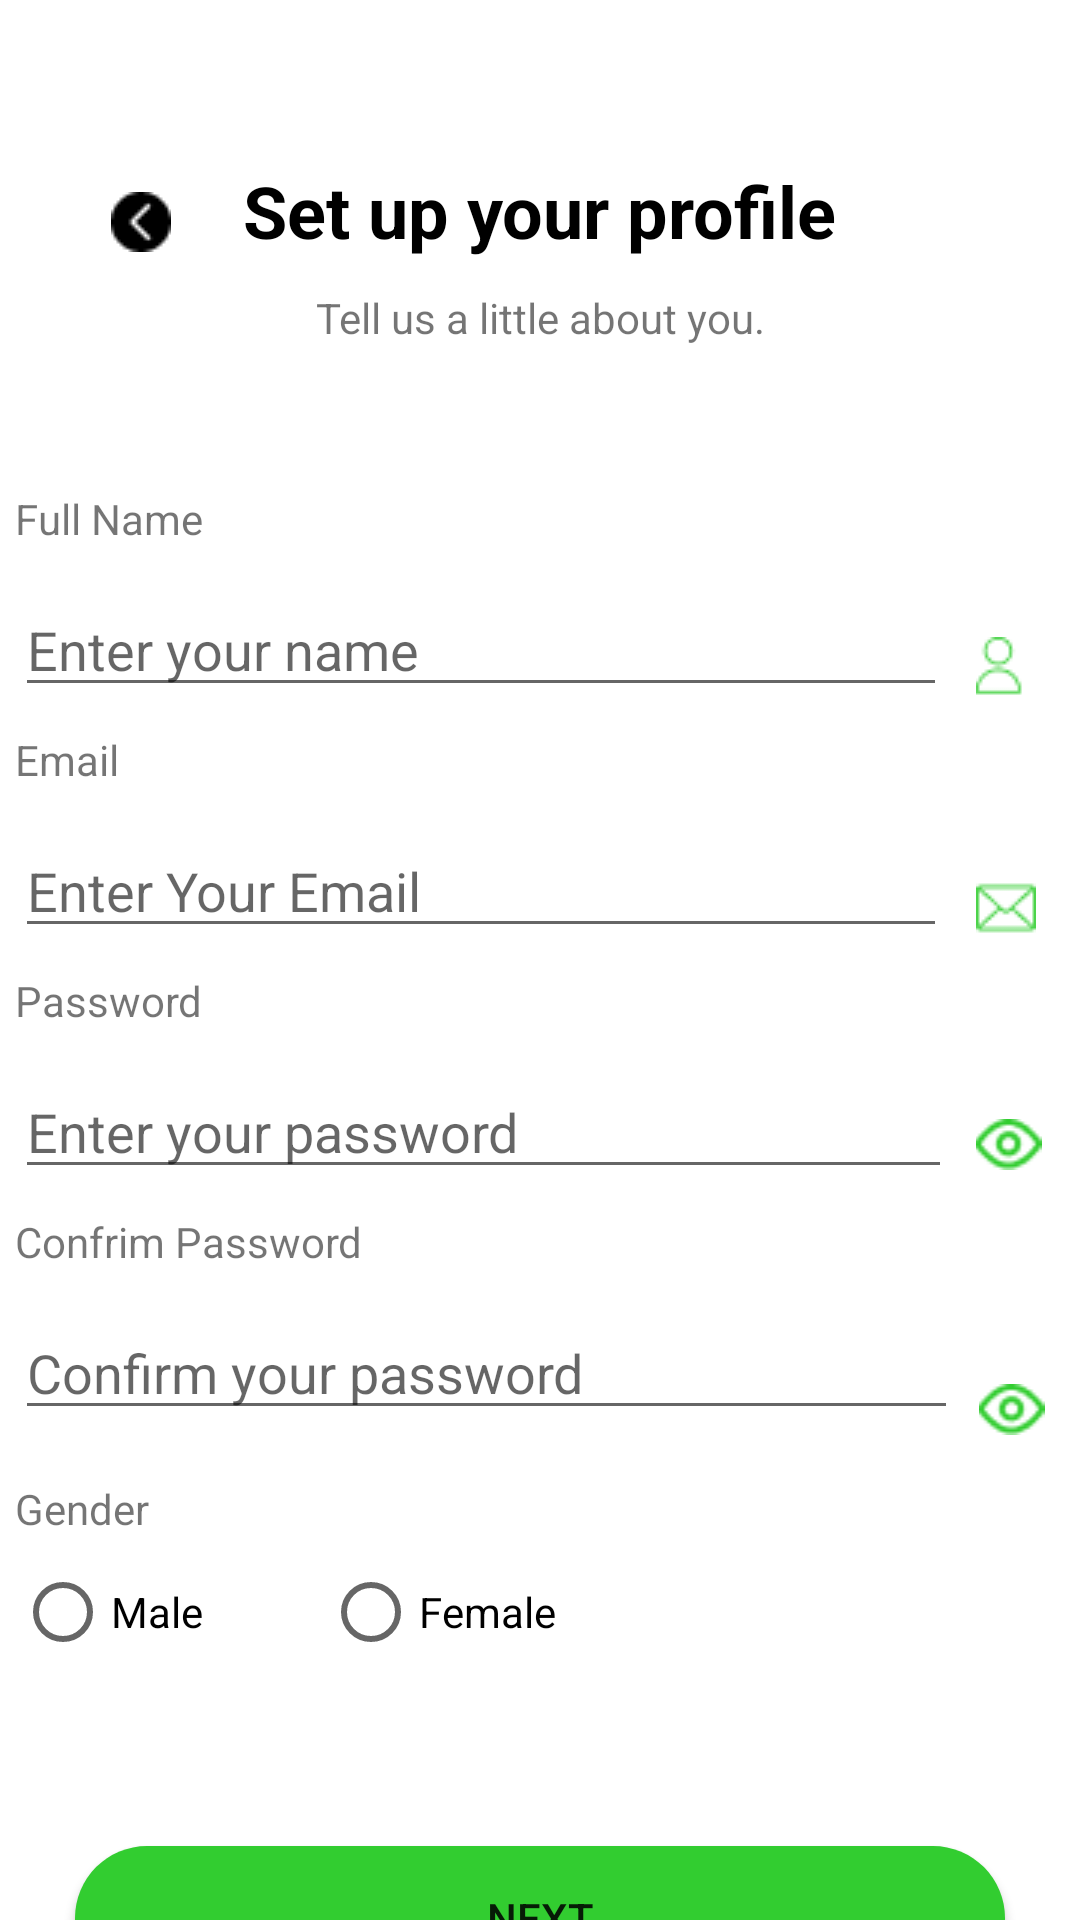

Icons on this 1080*1920 Android screen, each with the point to tap as (x=x, y=y):
backarrow: (x=141, y=222)
profile: (x=999, y=666)
